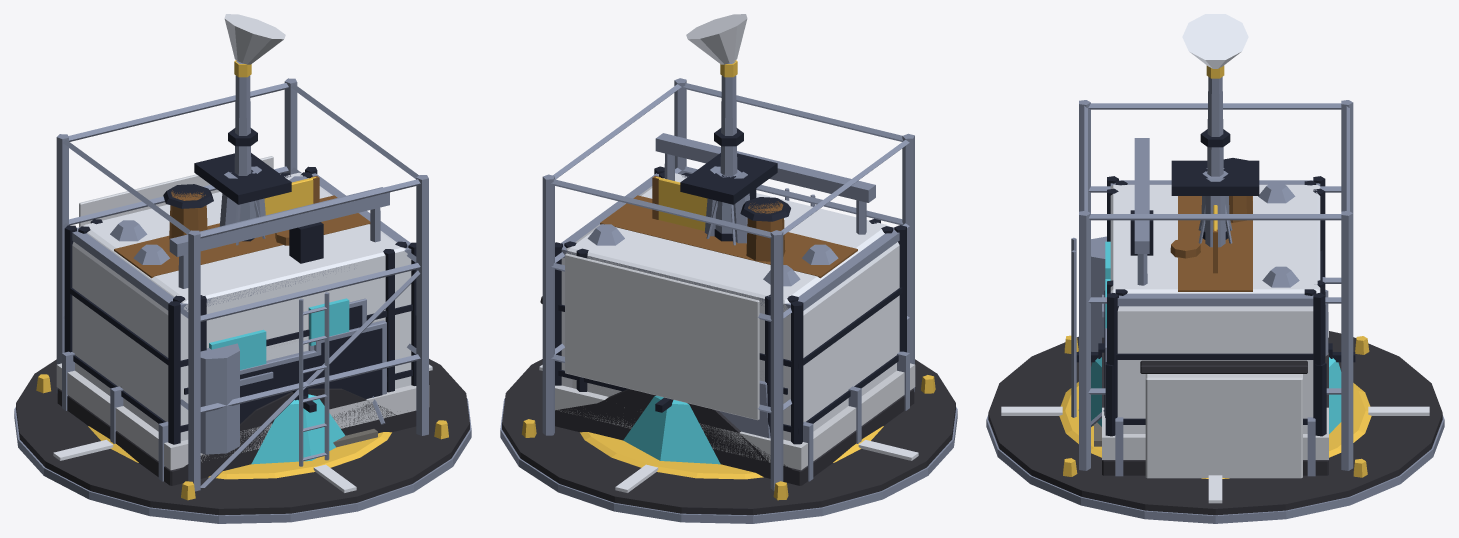
The model's file is settlement-kit.glb.
3 views of the same model, side by side, from view 1: azimuth 30°, elevation 25°; view 2: azimuth 150°, elevation 25°; view 3: azimuth 270°, elevation 25° (orthographic).
Visible parts, largest first — view 1: shell, disc, shell.001, kerb, tank, upright-0, upright-1, shell.003, gantry-beam, barrel, plank-1, parapet-0 (+43 smaller); view 2: sheet, disc, shell, shell.001, pitch, kerb, plank-1, shell.003, upright-2, upright-3, gantry-beam, eave (+31 smaller); view 3: disc, shell, lean-to, shell.001, plank-1, kerb, upright-3, eave, upright-1, cap, dish, lean-roof (+26 smaller).
Boxes of the visible parts, <box> form: shell: <box>72,172,411,441</box>; disc: <box>16,359,469,515</box>; shell.001: <box>111,192,385,357</box>; kerb: <box>14,398,471,523</box>; tank: <box>200,343,239,454</box>; upright-0: <box>188,230,200,491</box>; upright-1: <box>416,175,428,435</box>; shell.003: <box>251,394,345,464</box>; gantry-beam: <box>169,187,389,256</box>; barrel: <box>187,388,414,480</box>; plank-1: <box>114,195,370,278</box>; parapet-0: <box>165,385,429,470</box>; sheet: <box>565,253,759,420</box>; disc: <box>502,359,955,515</box>; shell: <box>561,173,899,441</box>; shell.001: <box>587,193,856,396</box>; pitch: <box>555,392,914,485</box>; kerb: <box>500,398,957,523</box>; plank-1: <box>600,195,857,278</box>; shell.003: <box>623,395,720,464</box>; upright-2: <box>770,230,783,490</box>; upright-3: <box>542,174,554,435</box>; gantry-beam: <box>655,133,875,202</box>; eave: <box>561,173,899,310</box>; disc: <box>988,331,1442,515</box>; shell: <box>1110,184,1320,433</box>; lean-to: <box>1145,374,1302,478</box>; shell.001: <box>1111,197,1319,266</box>; plank-1: <box>1178,196,1252,291</box>; kerb: <box>986,415,1444,523</box>; upright-3: <box>1341,210,1353,470</box>; eave: <box>1110,180,1320,306</box>; upright-1: <box>1079,210,1090,470</box>; cap: <box>1171,160,1259,195</box>; dish: <box>1182,14,1248,68</box>; lean-roof: <box>1140,360,1307,373</box>.
Bounding box in the file's own units: 5.24 × 5.19 × 5.24.
